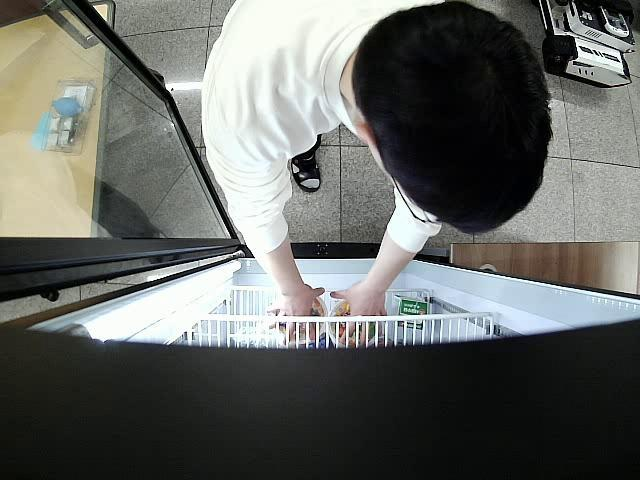09_yukGaeJang: (272, 295, 328, 342), (329, 299, 380, 347)
